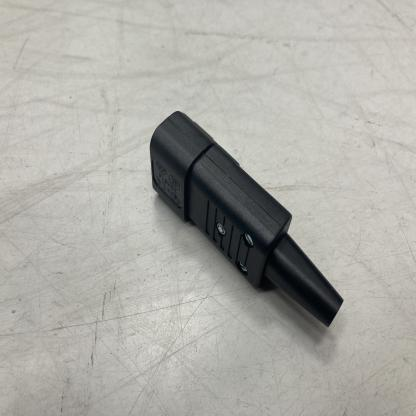SP0000004: (109, 33, 398, 382)
